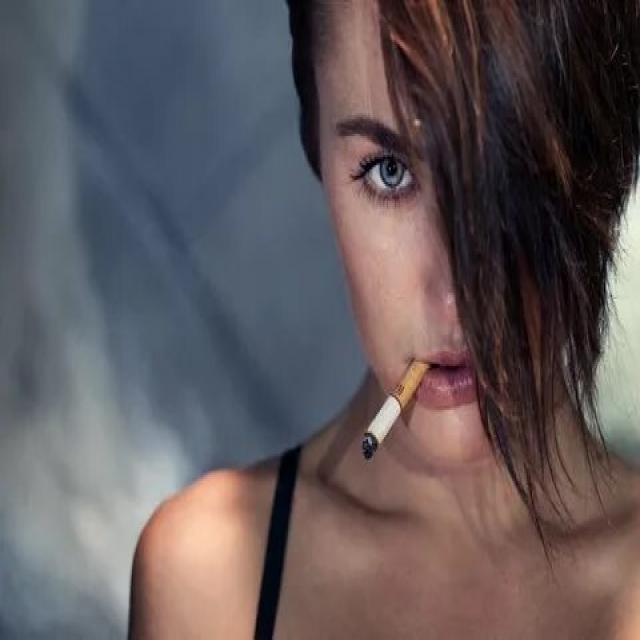smoke: (359, 356, 432, 468)
